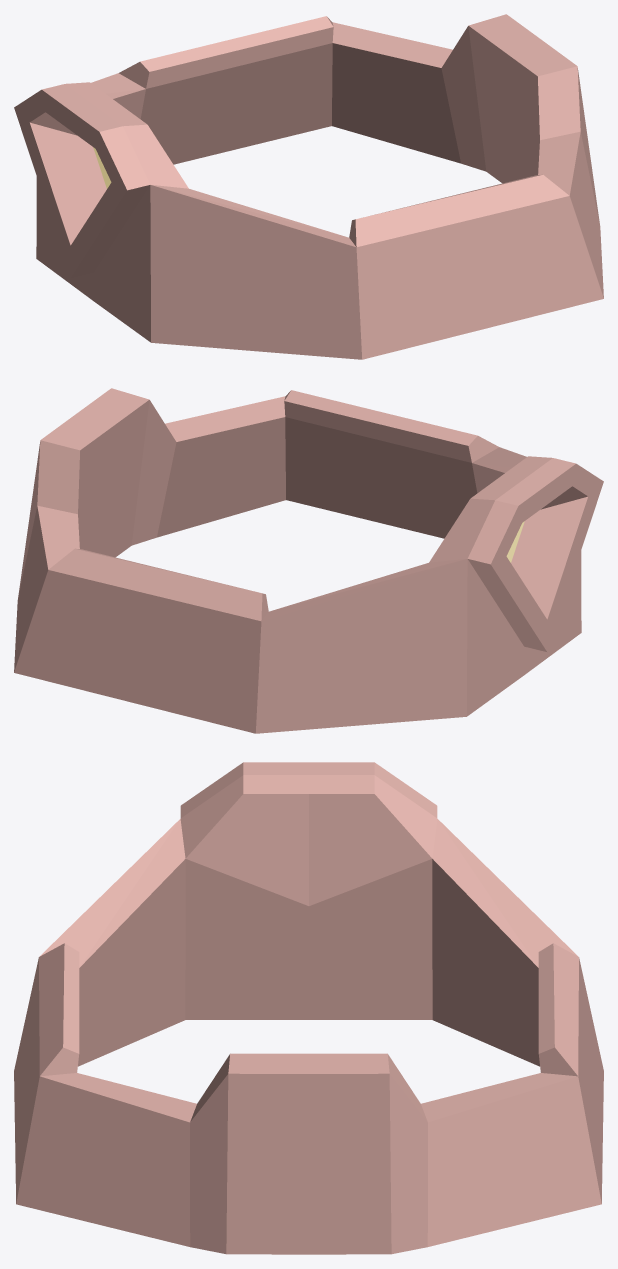
Rendered from cb_lower_waist_2.gltf.
The picture shows the model from 3 angles, top to bottom: view 1: azimuth 30°, elevation 25°; view 2: azimuth 150°, elevation 25°; view 3: azimuth 270°, elevation 25°; orthographic projection. The views are drawn at different scales.
Visible parts, largest first — view 1: Plane.005; view 2: Plane.005; view 3: Plane.005.
Boxes of the visible parts, <box> form: Plane.005: <box>14,14,603,359</box>; Plane.005: <box>14,388,603,733</box>; Plane.005: <box>14,762,603,1254</box>.
Bounding box in the file's own units: 2.5 × 0.9579 × 2.3.
